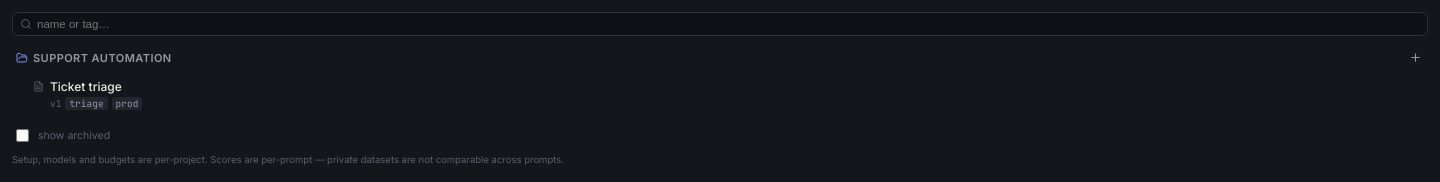
it: ProjectTree › filters by name or tag as the search box changes
The image size is (1440, 182).
Step 1. Type "prod" into the field with placeholder "name or tag…" → (720, 24), box [12, 12, 1428, 36]
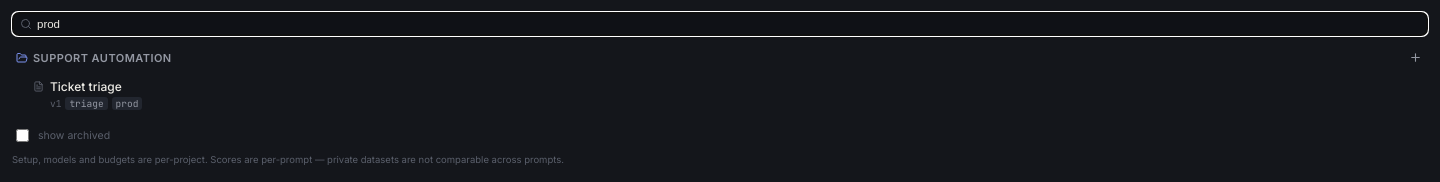
Expected: the text "Ticket triage" is shown, [50, 79, 122, 94]
Step 2. Replace the text in the field with placeholder "name or tag…" with "nomatch" → (720, 24), box [12, 12, 1428, 36]
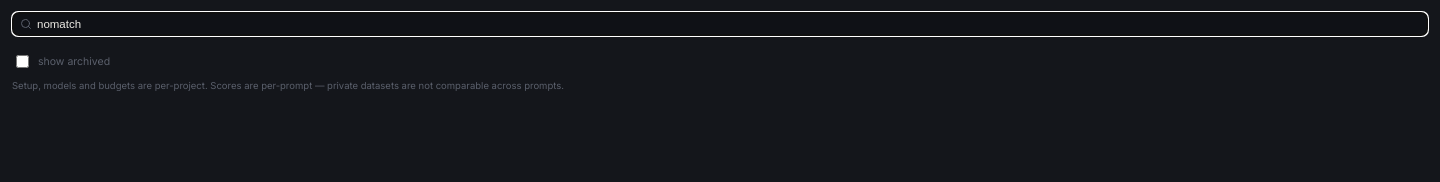
Now the link "Ticket triage" is gone
